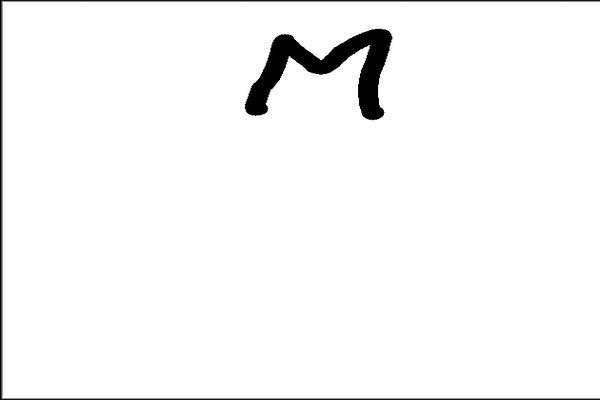M: (246, 25, 398, 125)
